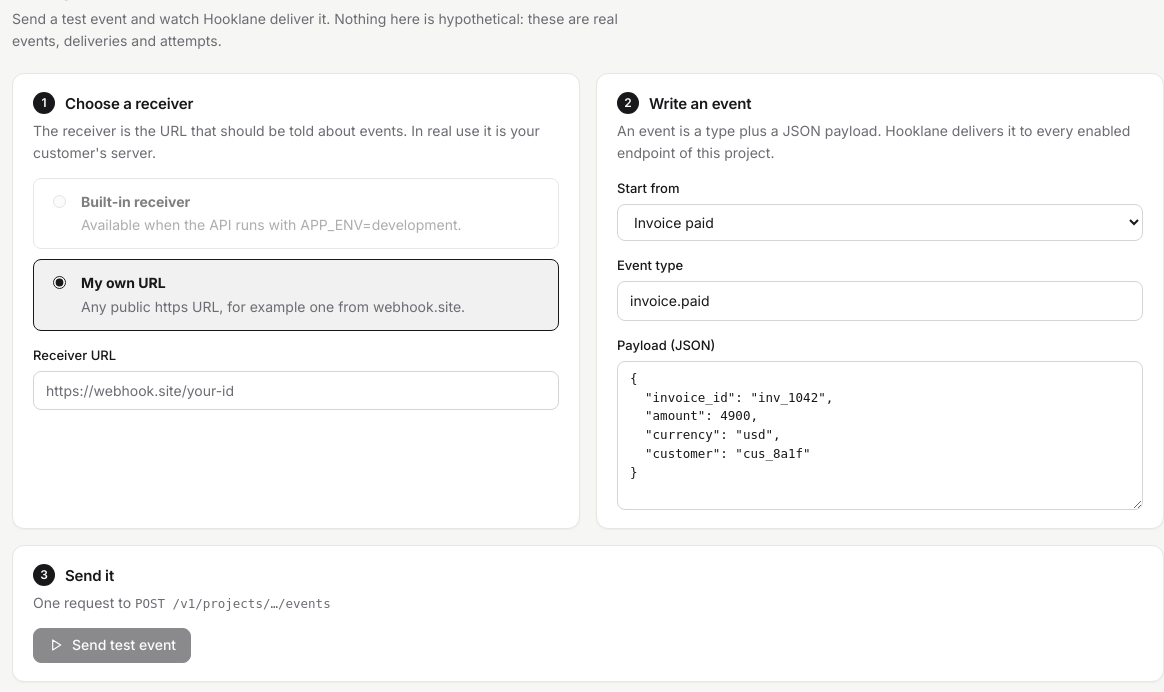
Test case: PlaygroundPage › sends an event to the chosen URL and shows the delivery result
Type "https://hooks.example.com/in" into the field labelled "Receiver URL" at (296, 390), box [33,371,559,410]
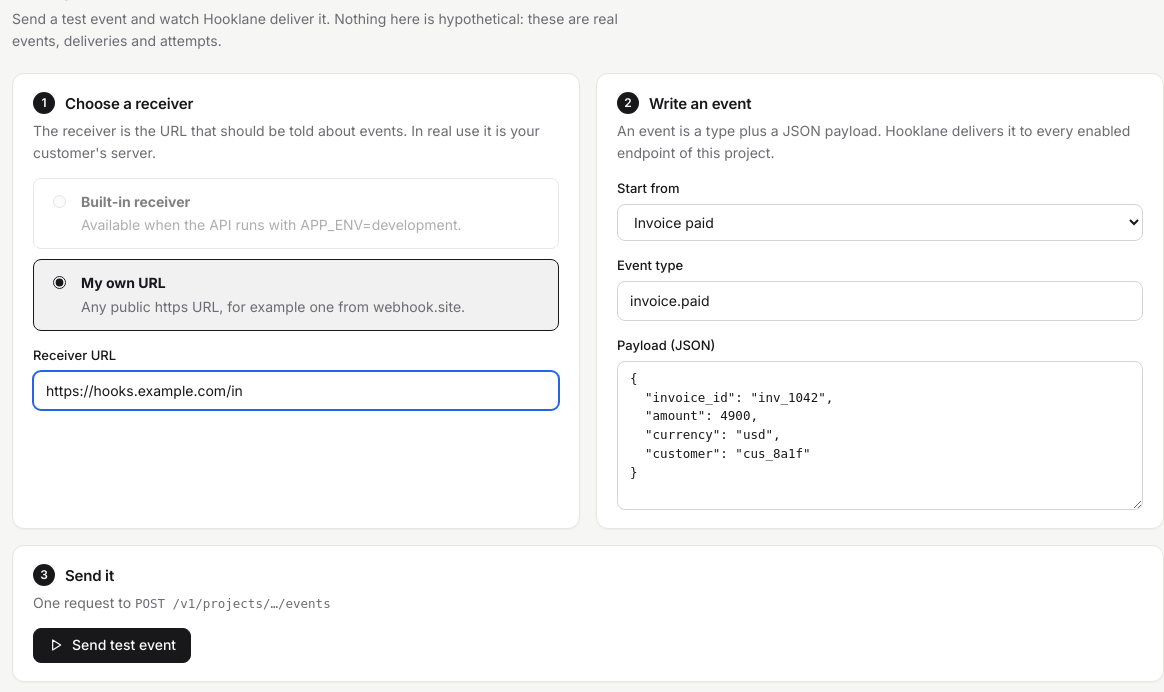
Click the button "Send test event" at (112, 645), box [33,628,191,663]
(page scrolled)
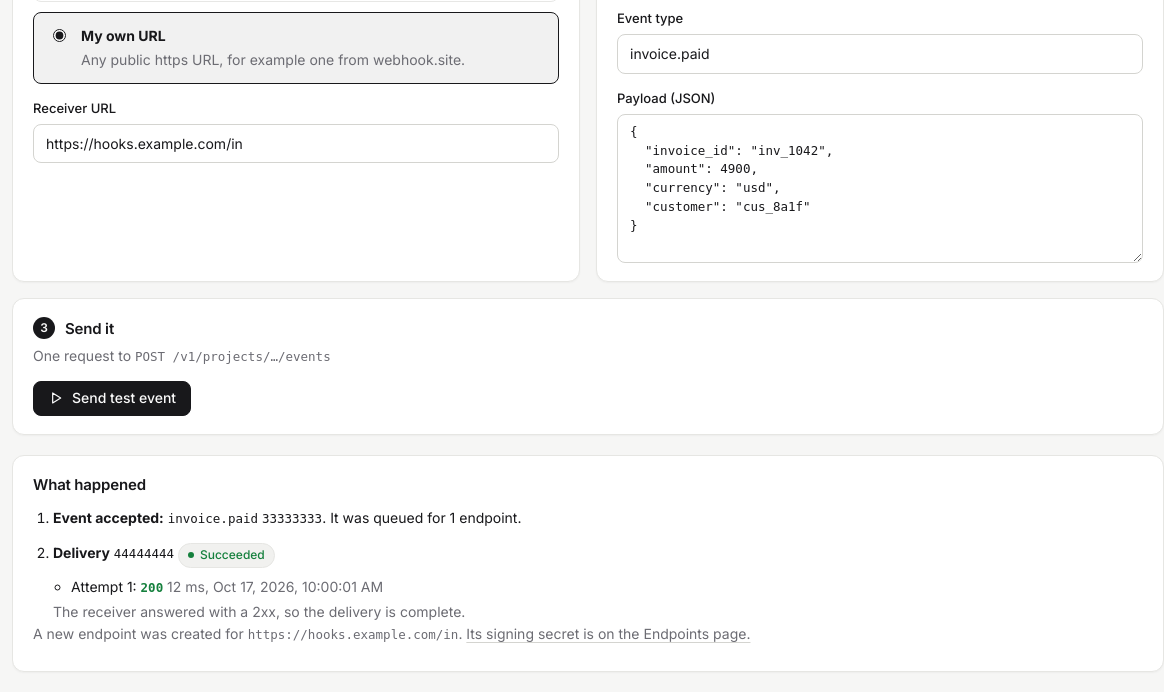
Now the text "Event accepted:" is shown, box [53,509,164,526]
Now the text "Succeeded" is shown, box [178,543,275,568]
Now the list item "Attempt 1: 200 12 ms, Oct 17, 2026, 10:00:01 AM" is shown, box [71,578,383,595]
